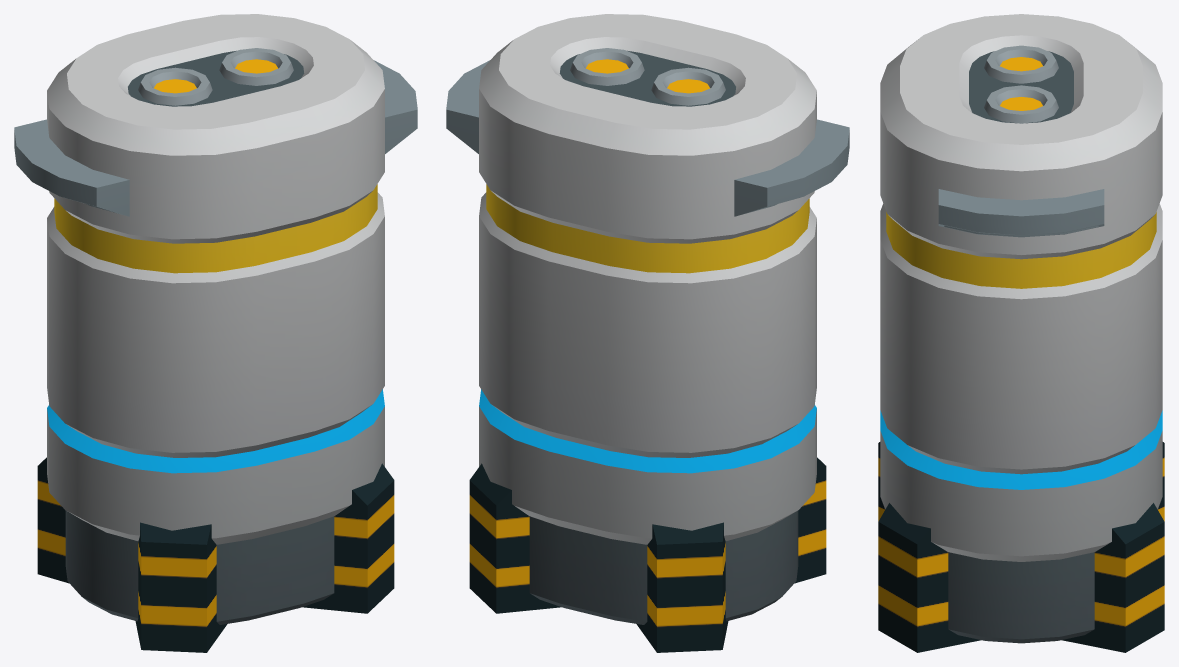
The model's file is Barrel_008.glb.
3 views of the same model, side by side, from view 1: azimuth 30°, elevation 25°; view 2: azimuth 150°, elevation 25°; view 3: azimuth 270°, elevation 25° (orthographic).
Visible parts, largest first — view 1: Barrel_008; view 2: Barrel_008; view 3: Barrel_008.
Boxes of the visible parts, x1=… form: Barrel_008: x1=14, y1=14, x2=417, y2=652; Barrel_008: x1=446, y1=14, x2=849, y2=652; Barrel_008: x1=878, y1=14, x2=1164, y2=652.
Size of the model in its own units: 0.755 by 1 by 0.507.
2 materials, 2 textured.
